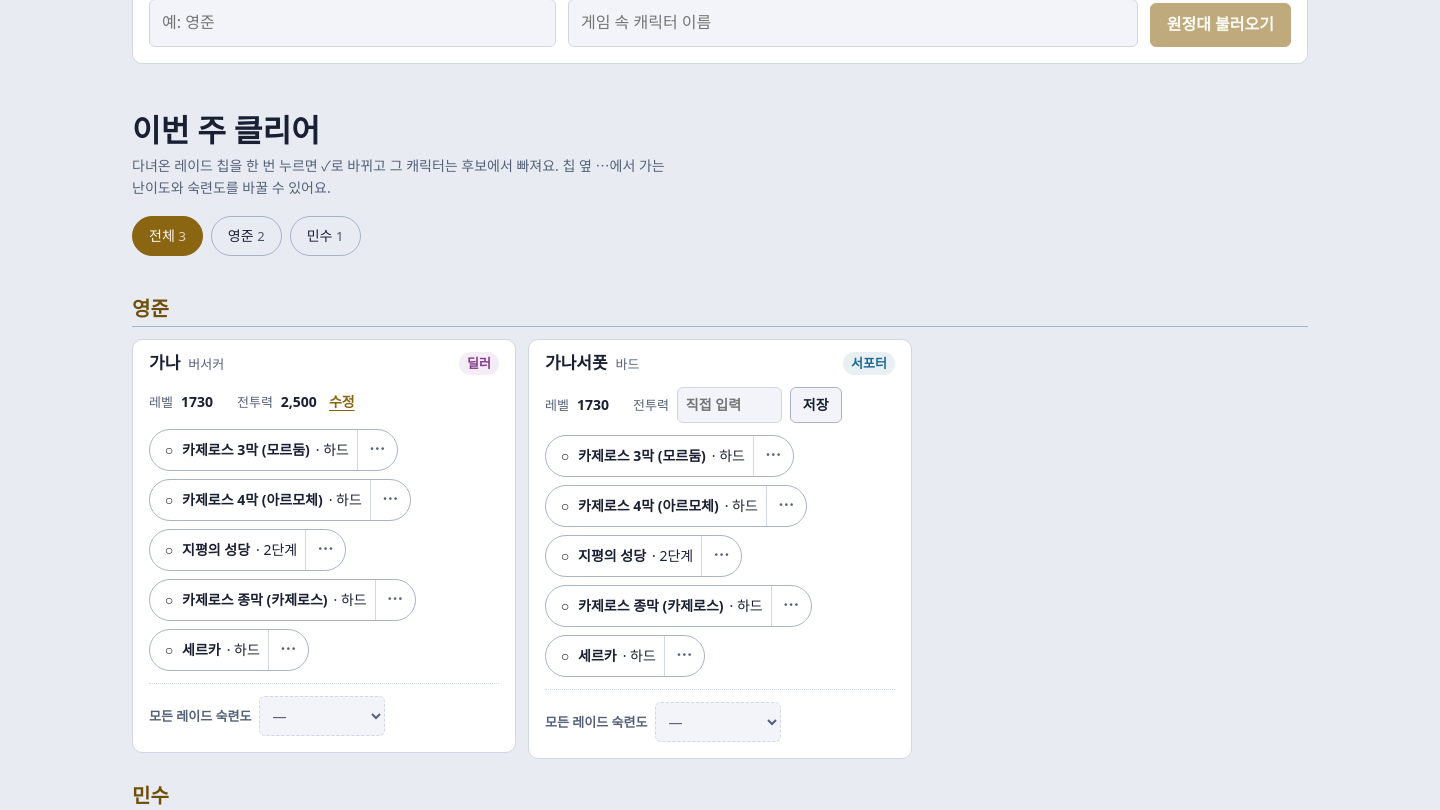
Test: 웹 화면 › 전투력이 null인 캐릭터 옆에 수동 입력칸이 있다
(page scrolled)
Type "1800" into the number field named "가나서폿 전투력" at point(729, 405), box [677,387,782,423]
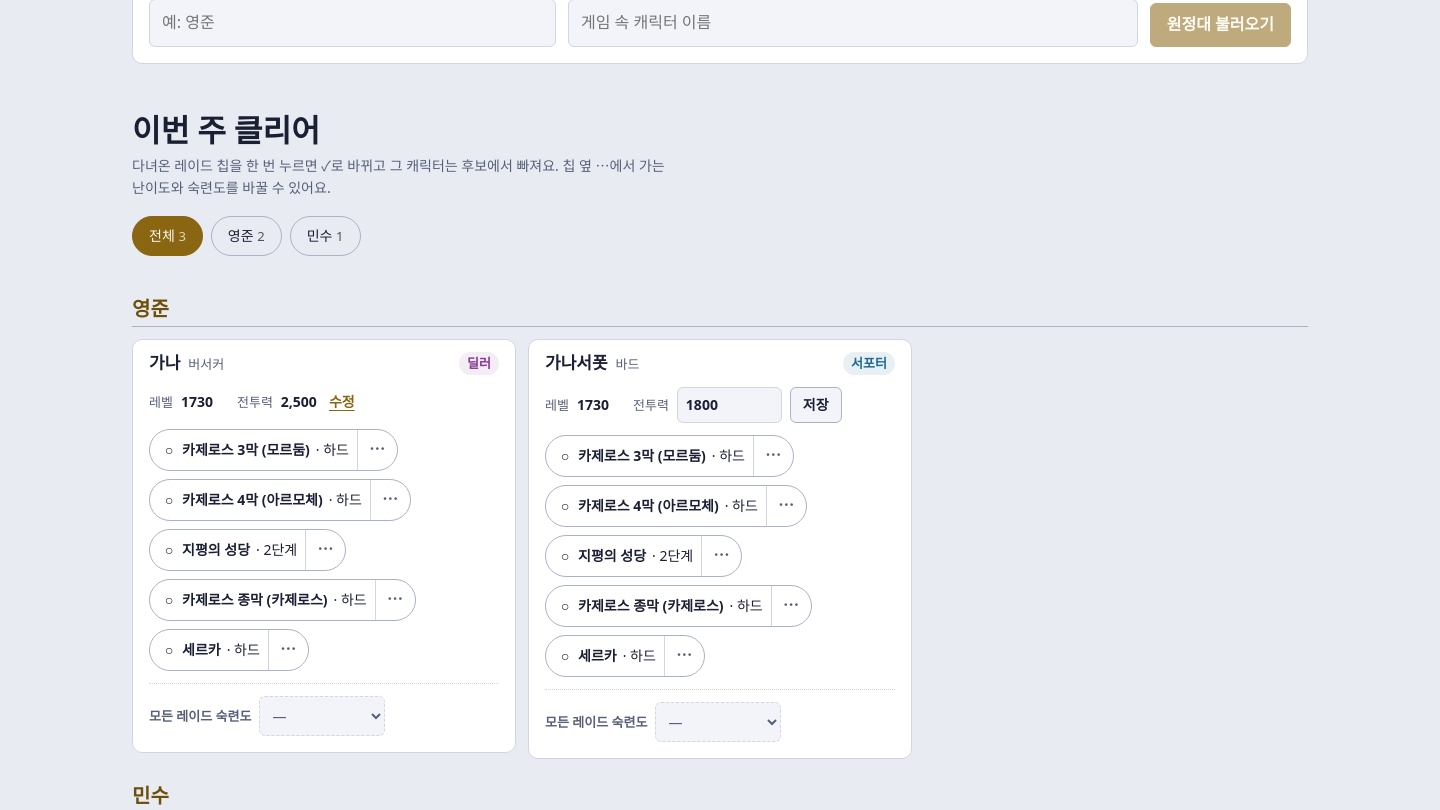
Submit the form named "가나서폿 전투력", box [677,387,842,423]
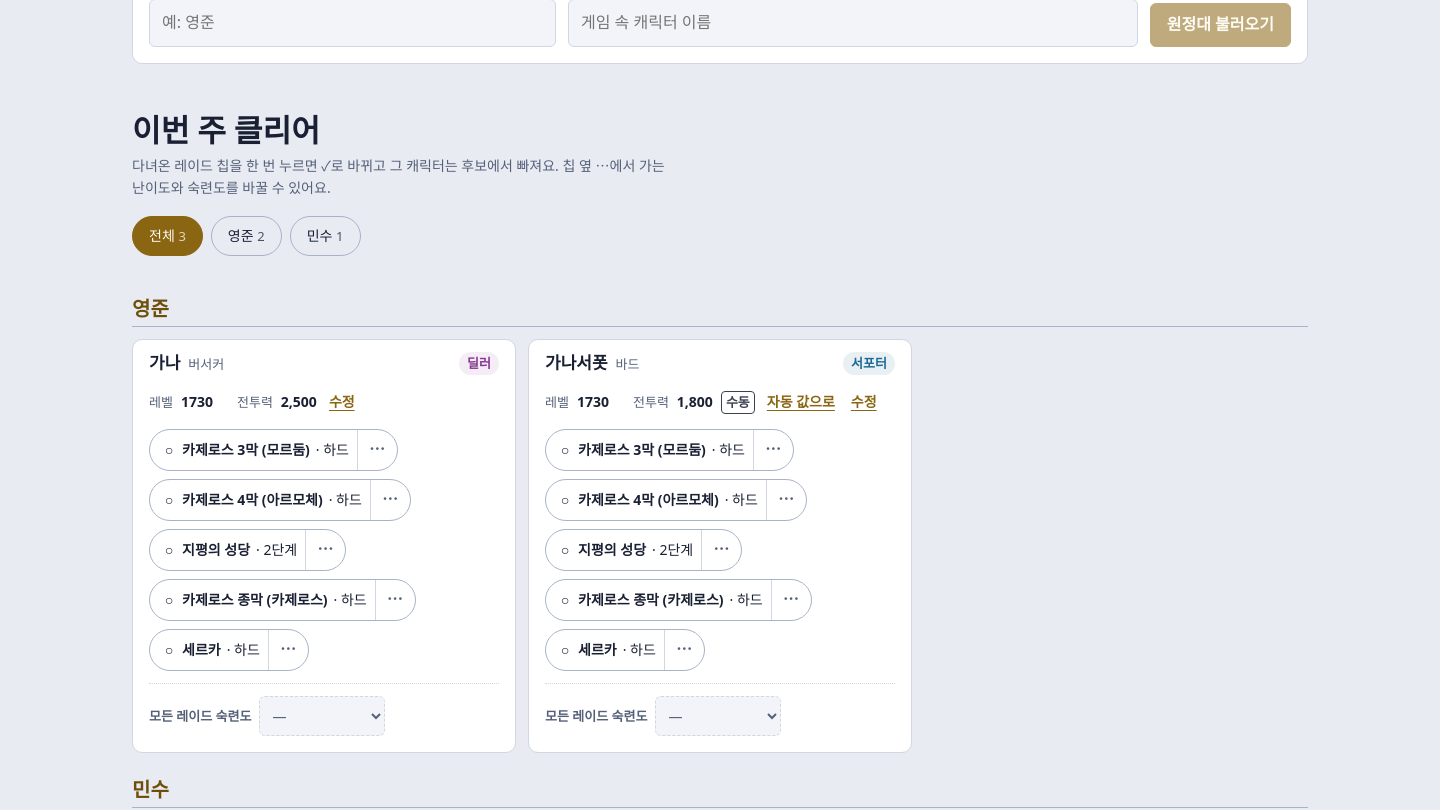
Result: the text "1,800" is shown at [677,391,713,413]
